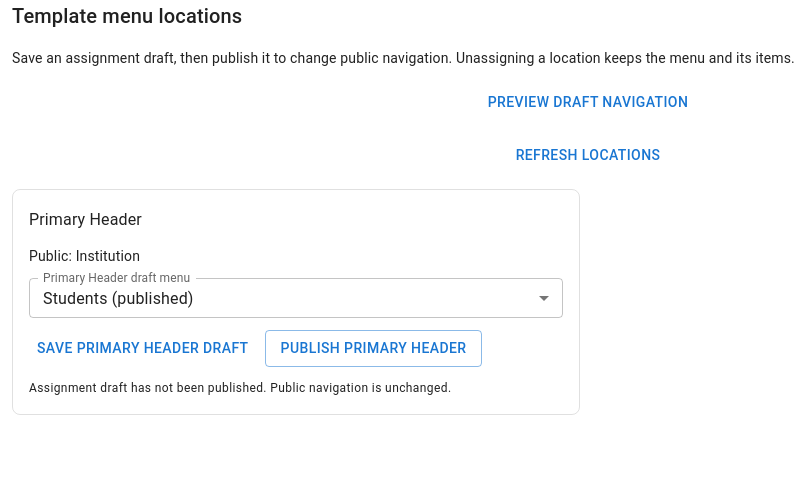
Test: shows the backend destination validation without losing the saved draft choice
Click the button "Publish Primary Header" at (373, 348), box [264, 330, 482, 366]
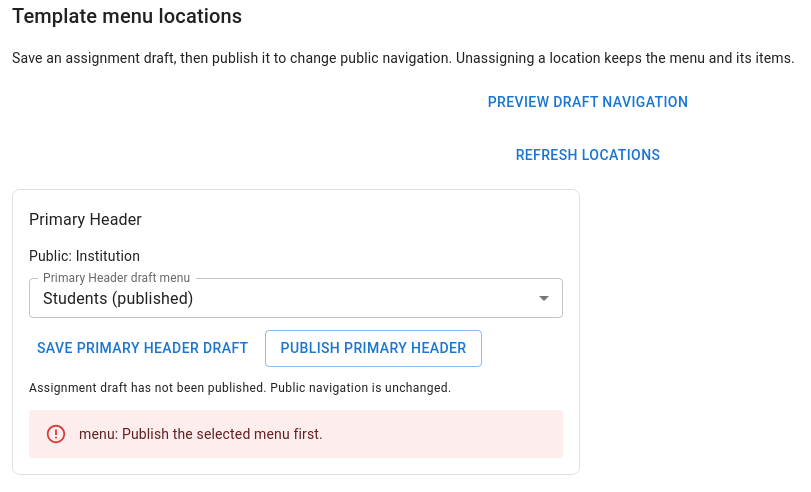
Expected: the dropdown labelled "Primary Header draft menu" shows "Students (published)", [29, 278, 563, 318]
Expected: the message shows "Publish the selected menu first.", [79, 426, 323, 442]
